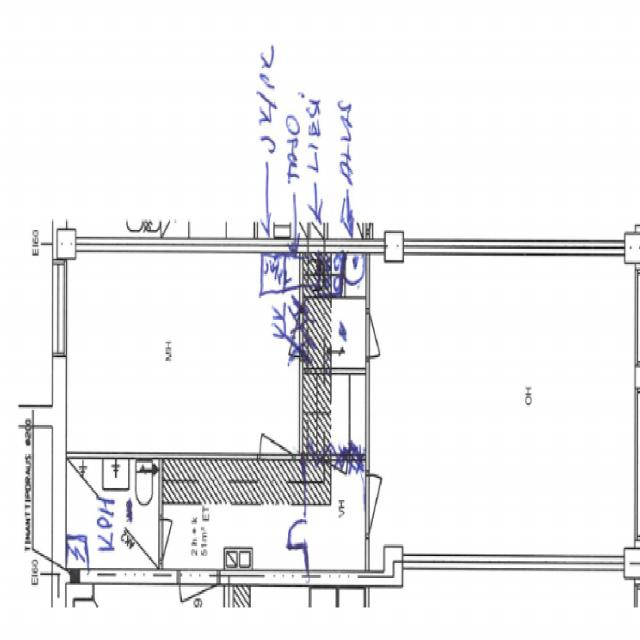door: (179, 572, 219, 640), (365, 475, 407, 536), (265, 494, 303, 548), (260, 402, 293, 461), (365, 310, 401, 360), (158, 518, 189, 561)
